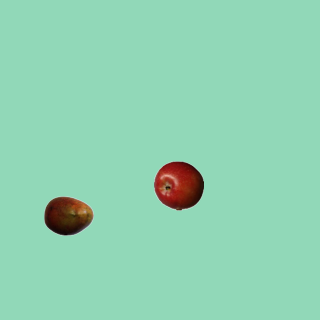Apple Braeburn: (153, 160, 203, 210)
Mango Red: (43, 190, 93, 240)
